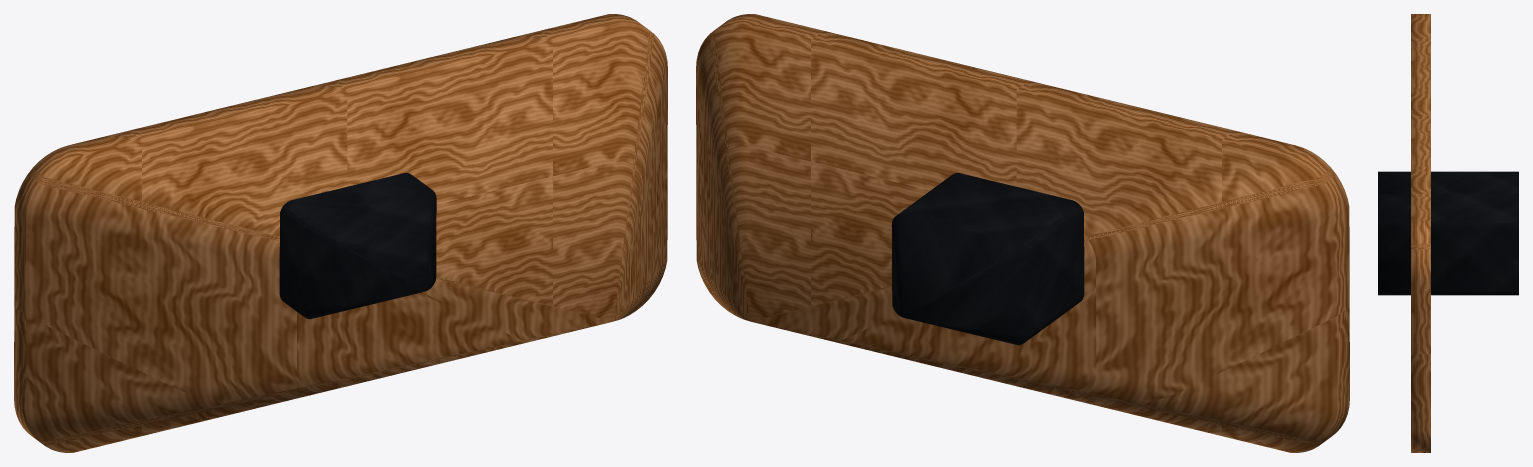
File: MEETING_TABLE_8P_HERO_001.glb
3 renders of one model, left to right at view 1: azimuth 30°, elevation 25°; view 2: azimuth 150°, elevation 25°; view 3: azimuth 270°, elevation 25°, orthographic. The views are drawn at different scales.
Visible parts, largest first — view 1: meeting_table_top_000, pedestal_001; view 2: meeting_table_top_000, pedestal_001; view 3: pedestal_001, meeting_table_top_000.
Boxes of the visible parts, x1,y1,x2,y2 form: meeting_table_top_000: (14,14,667,452); pedestal_001: (279,172,436,319); meeting_table_top_000: (696,14,1349,452); pedestal_001: (891,172,1084,345); pedestal_001: (1378,171,1518,295); meeting_table_top_000: (1411,14,1430,452).
Size of the model in its own units: 2.6 by 1.15 by 0.64.
2 materials, 2 textured.
